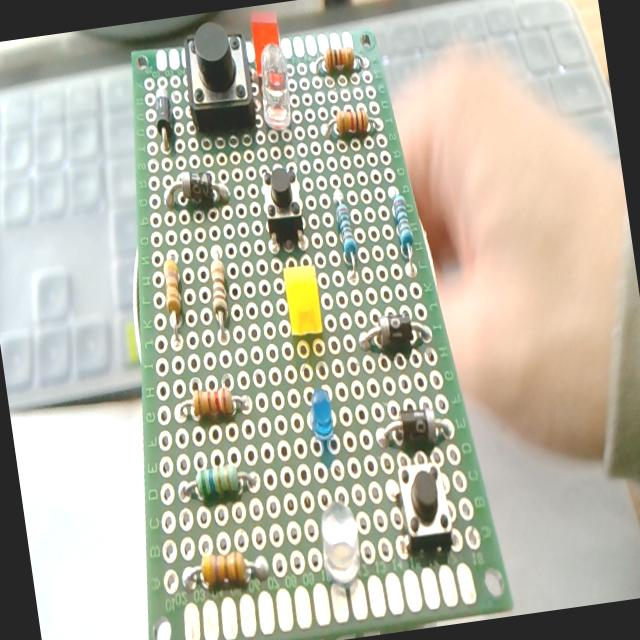diode: (372, 399, 452, 454), (356, 308, 432, 357), (161, 166, 229, 212), (152, 87, 178, 149)
led: (314, 496, 366, 590), (253, 40, 297, 134), (281, 262, 326, 338), (302, 384, 341, 456)
resistor: (184, 548, 270, 596), (180, 463, 260, 506), (177, 380, 250, 425), (202, 252, 236, 338), (332, 188, 359, 270), (390, 191, 418, 265), (161, 257, 186, 321), (333, 104, 370, 138), (322, 44, 357, 74)
switch: (178, 18, 260, 136), (393, 456, 455, 554), (258, 162, 307, 248)
